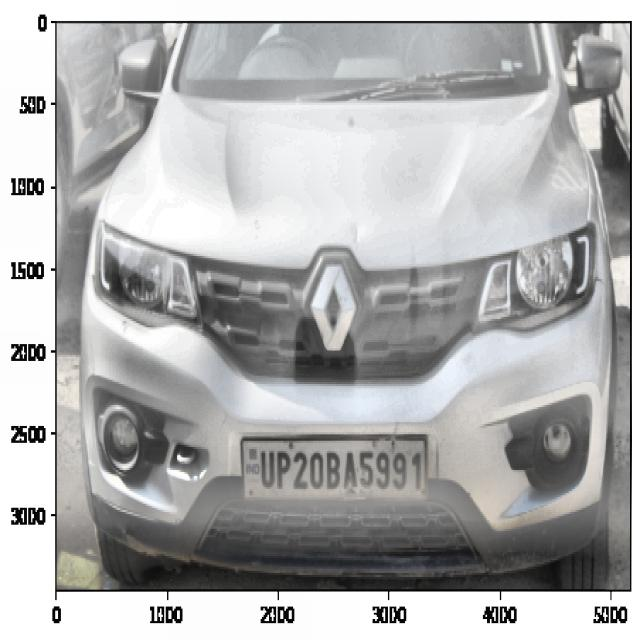license_plate: (255, 441, 429, 502)
